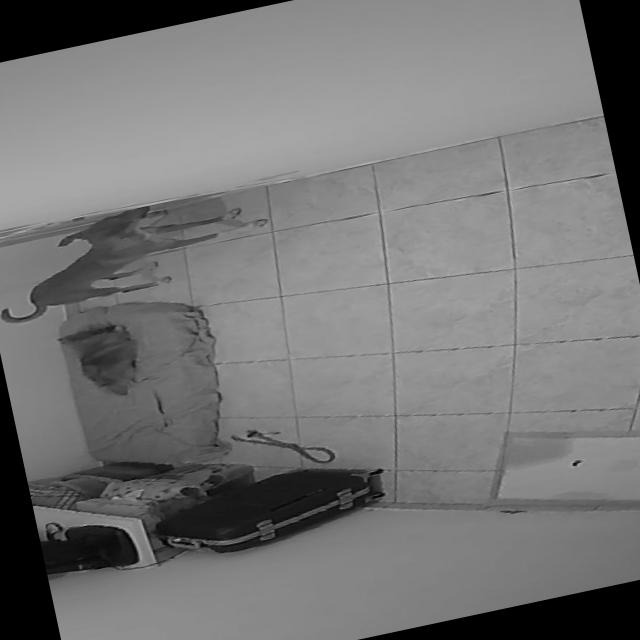laying down: (49, 310, 150, 409)
